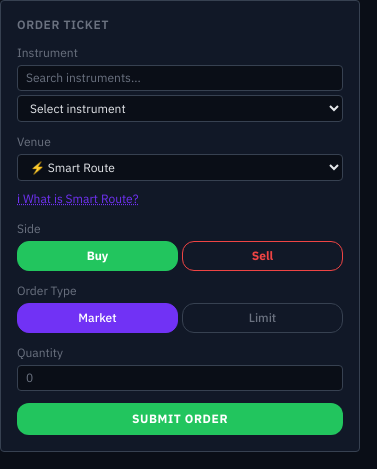
OrderTicket › shows Smart Route info tooltip on hover
This screenshot has width=377, height=469.
Hover to show tooltip
Hover over the button with aria-label "Smart Route info" at (78, 199), box [17, 191, 138, 207]
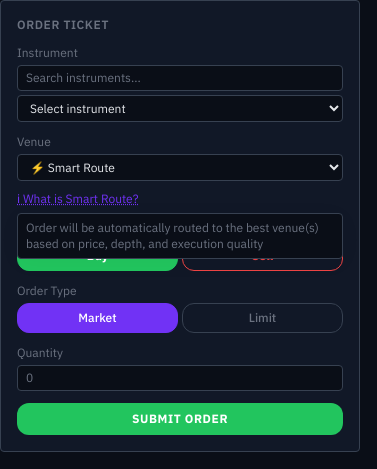
Expected: the tooltip shows "Order will be automatically routed to the best venue(s) based on price, depth, and execution quality", [26, 220, 319, 251]
Mouse leave hides tooltip
Move the pointer off the button with aria-label "Smart Route info", box [17, 191, 138, 207]
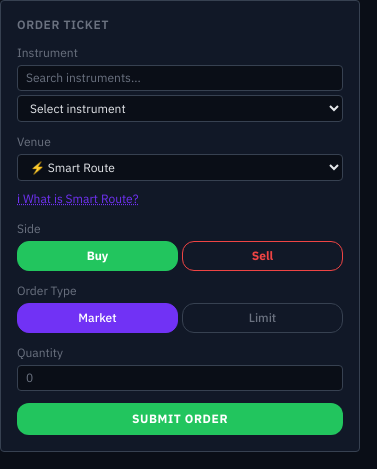
Expected: the tooltip is gone
